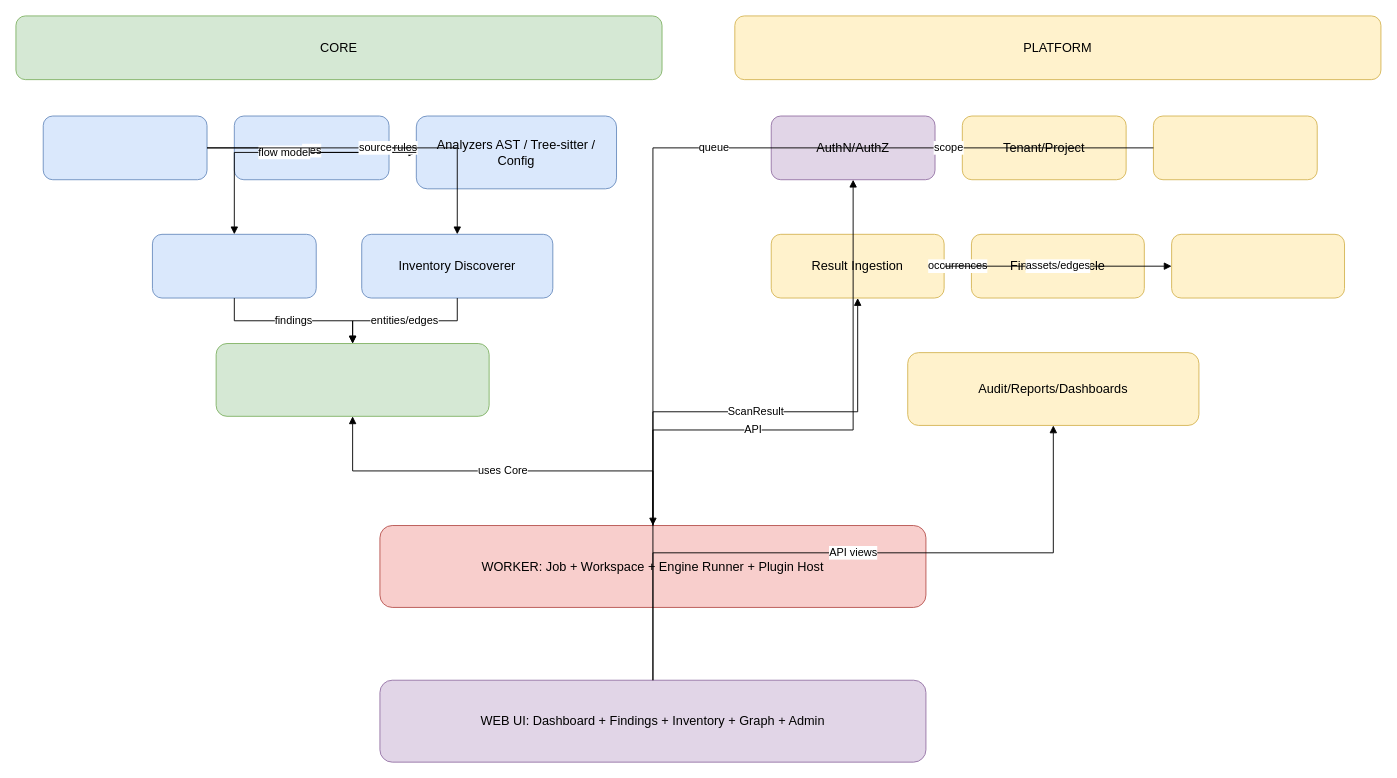
Image size: 1397x778. Some labels were removed from this diagram. Here are the shapes that lost their labels. From the top down, the box of each, then its label:
(42, 115, 207, 180): Repository Walker
(233, 115, 389, 180): Rule Store
(1153, 115, 1317, 180): Scan Job
(152, 233, 316, 298): Taint/Dataflow
(1171, 233, 1345, 298): Inventory/BOM
(215, 343, 489, 416): Finding Normalizer / Contracts
